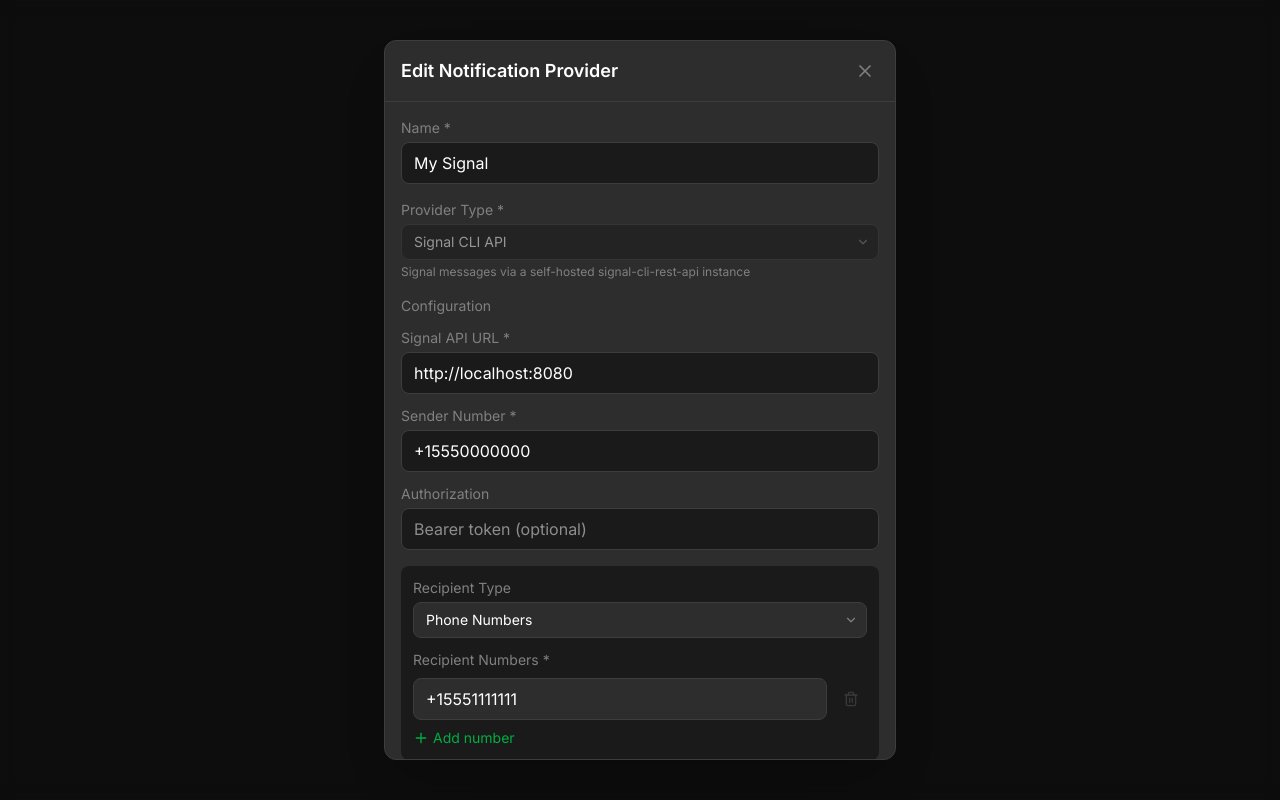
Test: AddNotificationModal — Signal › switches from a numbers list to a single Group ID field
expect the field showing "My Signal" below "Name *" is shown: met, box top-left (401, 142), bottom-right (879, 184)
Select "Group ID" in the dropdown below "Recipient Type": (640, 620) top-left (413, 602), bottom-right (867, 638)
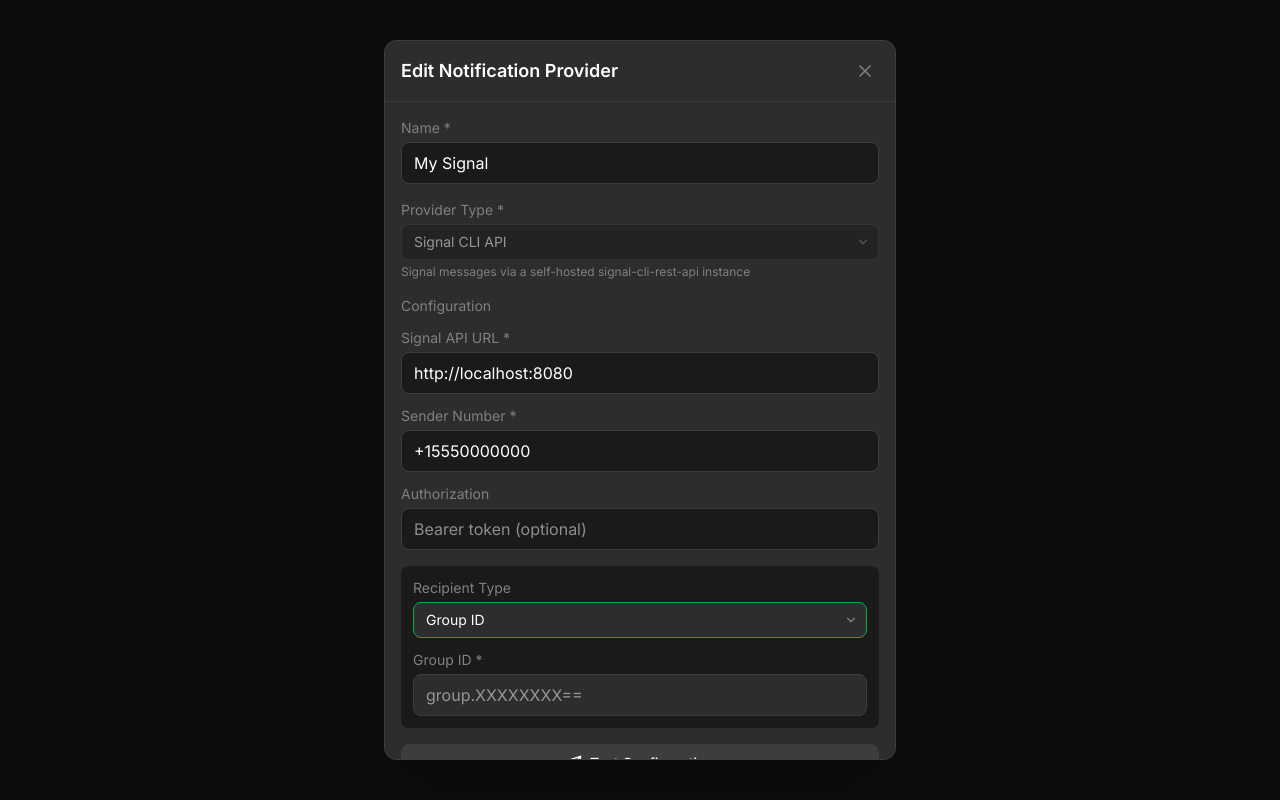
expect the field showing "+15551111111" is not shown: met
expect the field with placeholder "group.XXXXXXXX==" is shown: met, box top-left (413, 674), bottom-right (867, 716)
